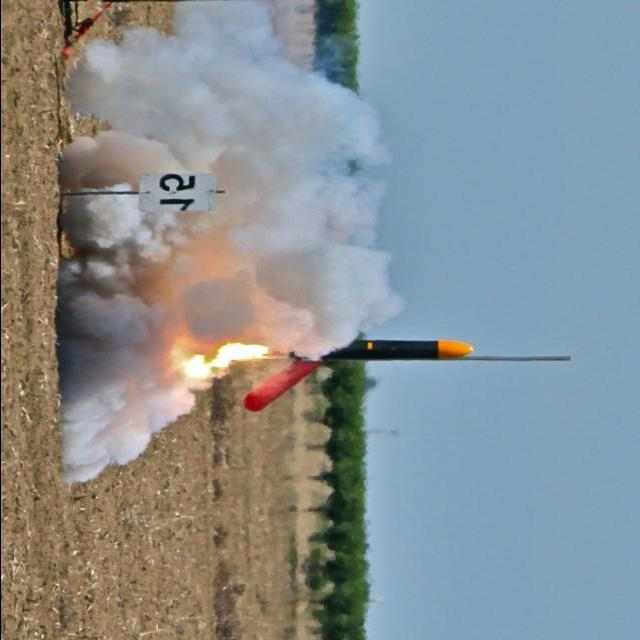Missile: (239, 339, 481, 368)
